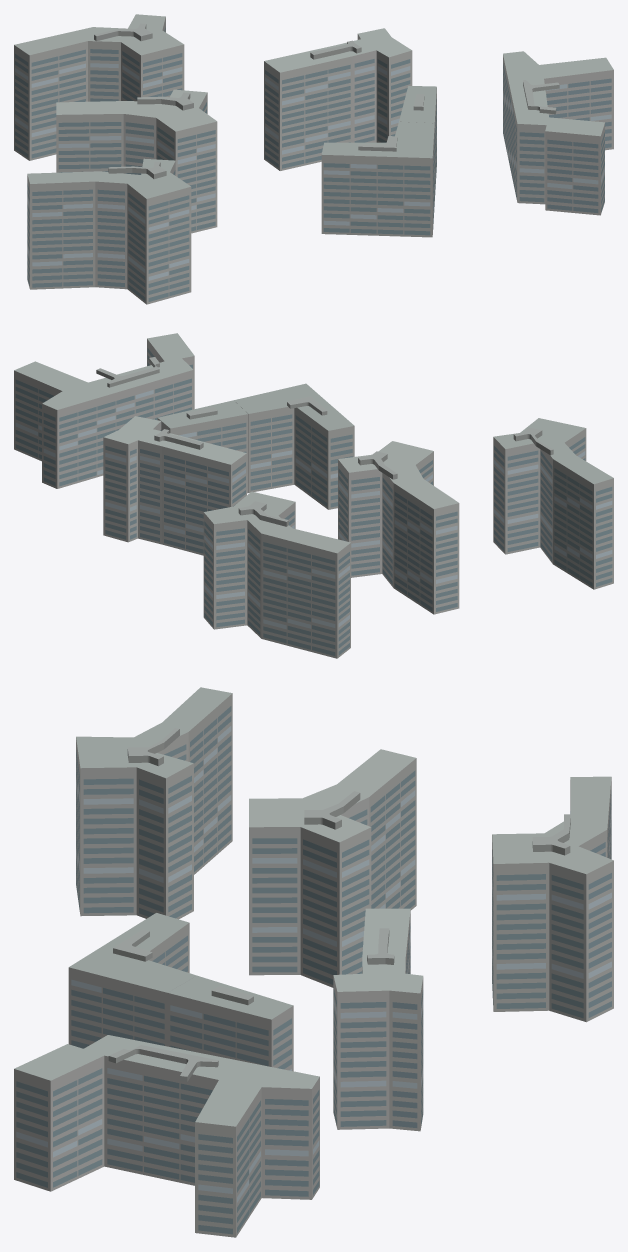
Rendered from apt-a12220004.glb.
The picture shows the model from 3 angles, top to bottom: view 1: azimuth 30°, elevation 25°; view 2: azimuth 150°, elevation 25°; view 3: azimuth 270°, elevation 25°; orthographic projection. The views are drawn at different scales.
Visible parts, largest first — view 1: apt-a12220004; view 2: apt-a12220004; view 3: apt-a12220004.
Boxes of the visible parts, x1,y1,x2,y2 form: apt-a12220004: (14,14,613,304); apt-a12220004: (14,333,613,658); apt-a12220004: (14,687,613,1237).
Bounding box in the file's own units: 245 × 44 × 154.
